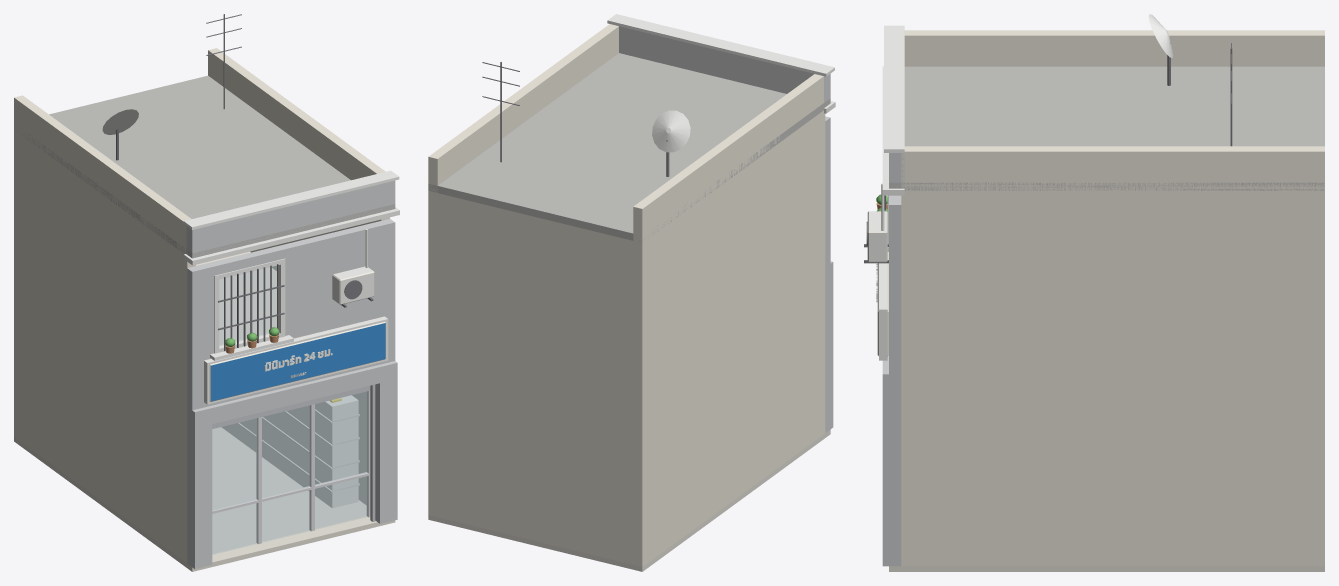
The model's file is SM_Shop_Mart.fbx.
3 renders of one model, left to right at view 1: azimuth 30°, elevation 25°; view 2: azimuth 150°, elevation 25°; view 3: azimuth 270°, elevation 25°, orthographic. The views are drawn at different scales.
Parts seen in each view (by area): view 1: SM_Shop_Mart; view 2: SM_Shop_Mart; view 3: SM_Shop_Mart.
Boxes of the visible parts, x1=… form: SM_Shop_Mart: x1=14, y1=14, x2=399, y2=571; SM_Shop_Mart: x1=428, y1=14, x2=835, y2=571; SM_Shop_Mart: x1=864, y1=14, x2=1324, y2=571.
Size of the model in its own units: 4.7 by 8.95 by 7.4.
